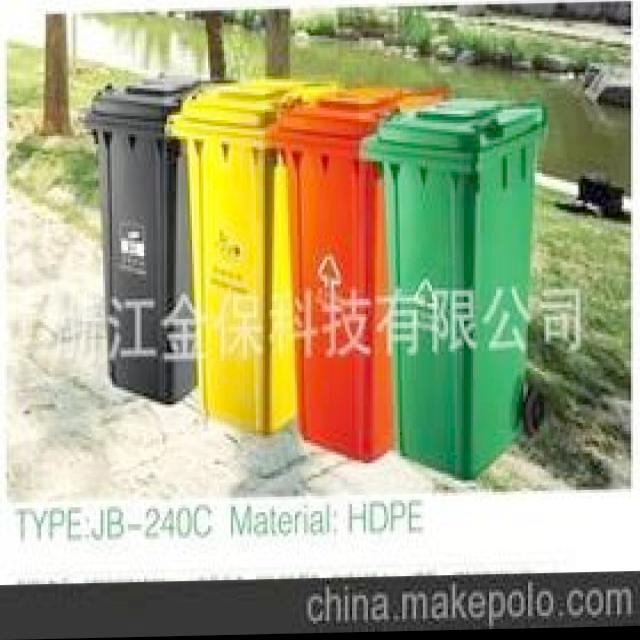garbage_bin: (359, 94, 542, 481), (265, 84, 450, 465), (164, 76, 340, 433), (80, 72, 235, 404)
